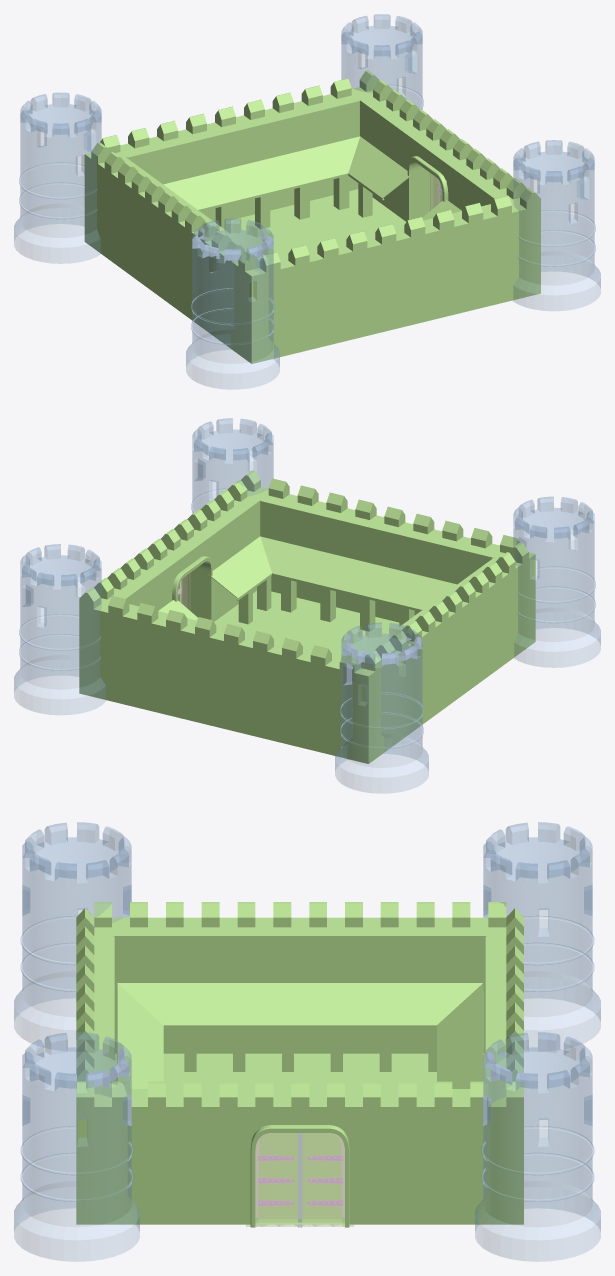
The model's file is castle.glb.
The picture shows the model from 3 angles, top to bottom: view 1: azimuth 30°, elevation 25°; view 2: azimuth 150°, elevation 25°; view 3: azimuth 270°, elevation 25°; orthographic projection. The views are drawn at different scales.
Visible parts, largest first — view 1: castle; view 2: castle; view 3: castle.
Boxes of the visible parts, x1,y1,x2,y2 form: castle: (14, 14, 600, 389); castle: (14, 418, 600, 793); castle: (14, 822, 600, 1261).
Size of the model in its own units: 279 by 91.04 by 262.
